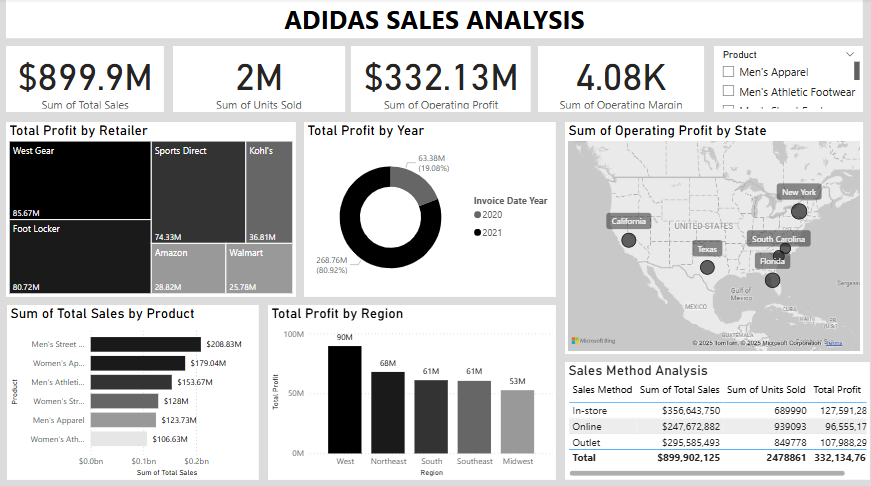

This screenshot's page, from the dashboard's own definition file:
{"tool":"powerbi","page":{"name":"Dashboard","canvas":[1280,720],"ordinal":0},"visuals":[{"type":"card","fields":{"Values":["Sum( Adidas Sales.Units Sold)"]},"box":[255.7,70.5,252.7,97],"z":0},{"type":"card","fields":{"Values":["Sum( Adidas Sales.Total Sales)"]},"box":[10.3,70.5,232.2,97],"z":1000},{"type":"card","fields":{"Values":["Sum( Adidas Sales.Operating Profit)"]},"box":[517.2,70.5,264.5,97],"z":2000},{"type":"treemap","fields":{"Group":[" Adidas Sales.Retailer"],"Values":[" Adidas Sales.Total Profit"]},"box":[10.3,182.2,426.1,257.1],"z":3000},{"type":"textbox","box":[10.3,0,1259.3,58.8],"z":4000},{"type":"card","fields":{"Values":["Sum( Adidas Sales.Operating Margin)"]},"box":[792,70.5,243.9,97],"z":5000},{"type":"map","fields":{"Category":[" Adidas Sales.State"],"Size":["Sum( Adidas Sales.Operating Profit)"]},"box":[831.7,182.2,437.9,340.9],"z":6000},{"type":"barChart","fields":{"Category":[" Adidas Sales.Product"],"Y":["Sum( Adidas Sales.Total Sales)"]},"box":[11.8,451.1,370.3,257.1],"z":7000},{"type":"tableEx","title":"Sales Method Analysis","fields":{"Values":[" Adidas Sales.Sales Method","Sum( Adidas Sales.Total Sales)","Sum( Adidas Sales.Units Sold)"," Adidas Sales.Total Profit"]},"box":[831.7,534.9,448.2,173.4],"z":8000},{"type":"donutChart","fields":{"Y":[" Adidas Sales.Total Profit"],"Category":[" Adidas Sales.Invoice Date.Variation.Date Hierarchy.Year"," Adidas Sales.Invoice Date.Variation.Date Hierarchy.Quarter"," Adidas Sales.Invoice Date.Variation.Date Hierarchy.Month"," Adidas Sales.Invoice Date.Variation.Date Hierarchy.Day"]},"box":[448.2,182.2,370.3,257.1],"z":9000},{"type":"columnChart","fields":{"Category":[" Adidas Sales.Region"],"Y":[" Adidas Sales.Total Profit"]},"box":[395.3,451.1,423.2,257.1],"z":10000},{"type":"slicer","fields":{"Values":[" Adidas Sales.Product"]},"box":[1050.6,70.5,218.9,97],"z":11000}]}

Visuals, with their boxes in screenshot pixels (x1, y1, x2, y2), scaled from the page's 1280x720 canvas onto the 871x486 screenshot:
card - Sum( Adidas Sales.Units Sold): BBox(174, 48, 346, 113)
card - Sum( Adidas Sales.Total Sales): BBox(7, 48, 165, 113)
card - Sum( Adidas Sales.Operating Profit): BBox(352, 48, 532, 113)
treemap -  Adidas Sales.Retailer x  Adidas Sales.Total Profit: BBox(7, 123, 297, 297)
textbox: BBox(7, 0, 864, 40)
card - Sum( Adidas Sales.Operating Margin): BBox(539, 48, 705, 113)
map -  Adidas Sales.State x Sum( Adidas Sales.Operating Profit): BBox(566, 123, 864, 353)
barChart -  Adidas Sales.Product x Sum( Adidas Sales.Total Sales): BBox(8, 304, 260, 478)
"Sales Method Analysis" tableEx: BBox(566, 361, 870, 478)
donutChart -  Adidas Sales.Total Profit x  Adidas Sales.Invoice Date.Variation.Date Hierarchy.Year: BBox(305, 123, 557, 297)
columnChart -  Adidas Sales.Region x  Adidas Sales.Total Profit: BBox(269, 304, 557, 478)
slicer -  Adidas Sales.Product: BBox(715, 48, 864, 113)
